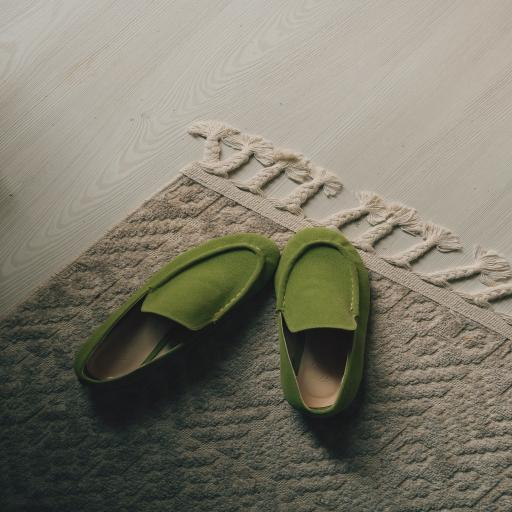shoe: (74, 234, 279, 387), (275, 228, 369, 417)
